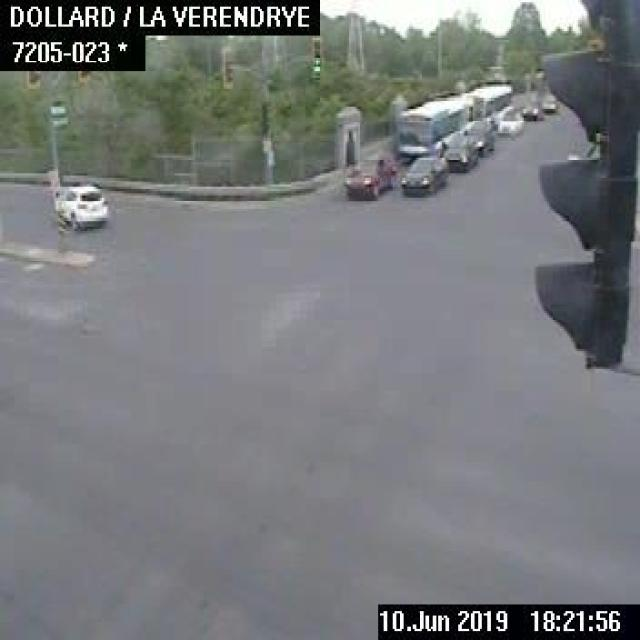bus: (397, 90, 473, 151), (470, 82, 510, 119)
vehicle: (55, 178, 107, 229), (398, 151, 450, 199), (342, 152, 395, 198), (444, 130, 478, 170), (496, 105, 526, 136), (465, 122, 492, 154), (520, 98, 540, 122), (539, 91, 555, 116)
